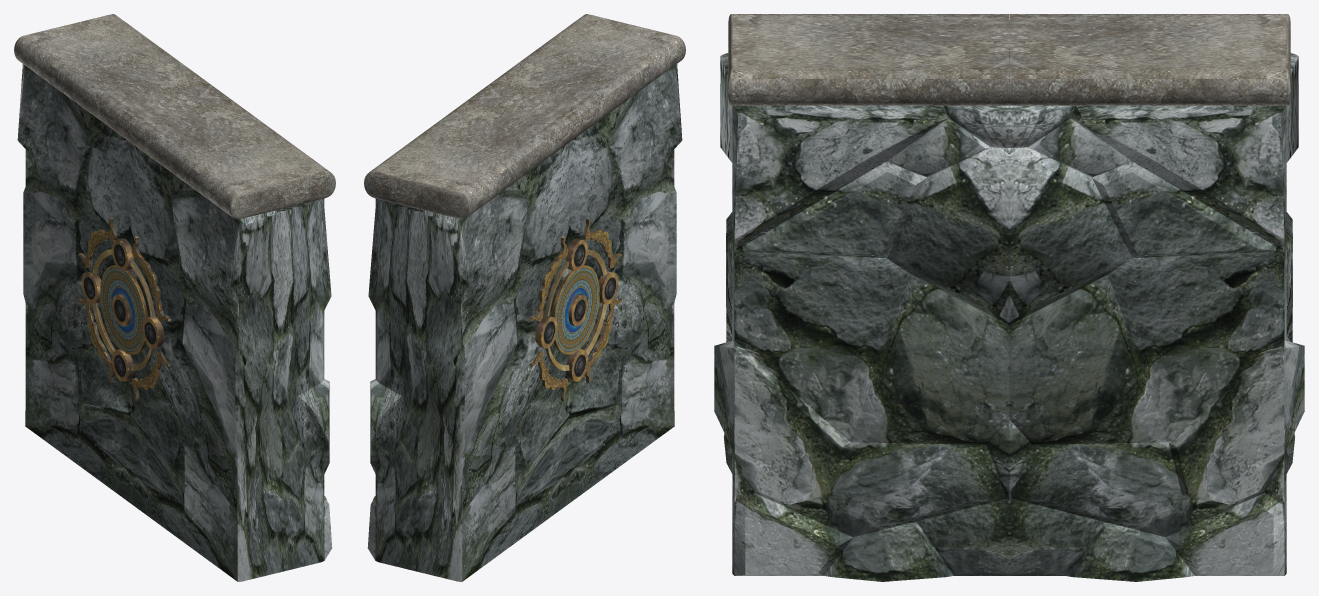
File: 新石门.FBX
The picture shows the model from 3 angles, left to right: view 1: azimuth 30°, elevation 25°; view 2: azimuth 150°, elevation 25°; view 3: azimuth 270°, elevation 25°; orthographic projection. The views are drawn at different scales.
Parts seen in each view (by area): view 1: New Stone Door001; view 2: New Stone Door001; view 3: New Stone Door001.
Boxes of the visible parts, x1,y1,x2,y2 form: New Stone Door001: (14, 14, 335, 581); New Stone Door001: (364, 14, 685, 581); New Stone Door001: (714, 14, 1304, 581).
Size of the model in its own units: 735 by 2353 by 2487.
